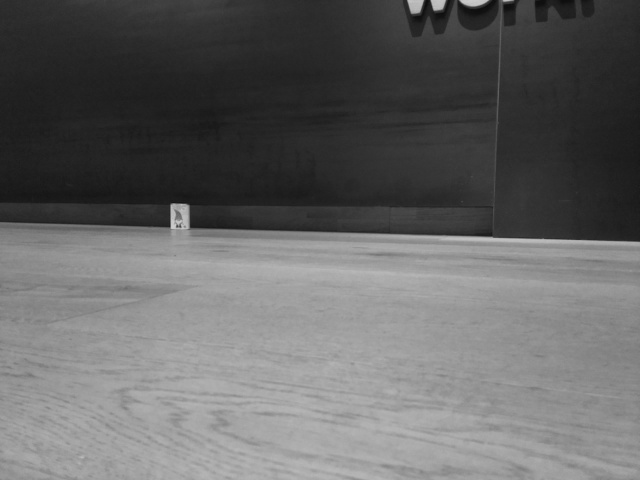gnome: (171, 208, 188, 229)
